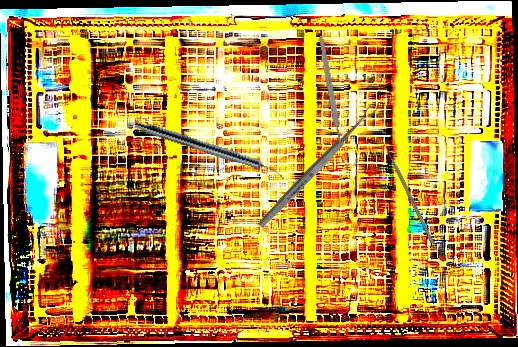Handpiece: (132, 118, 288, 182)
Pusher: (380, 138, 435, 244)
Scalpel Handle: (318, 35, 343, 145)
Surgical Spoon: (255, 102, 380, 231)
